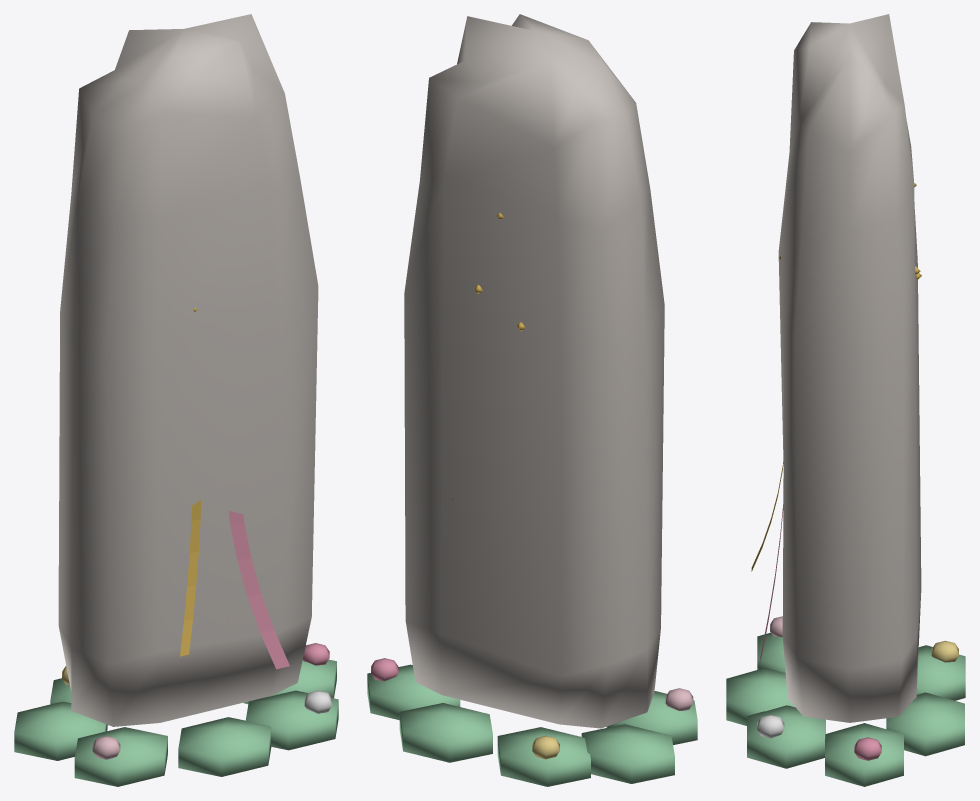
Rendered from rite_standing_stone_a.gltf.
3 views of the same model, side by side, from view 1: azimuth 30°, elevation 25°; view 2: azimuth 150°, elevation 25°; view 3: azimuth 270°, elevation 25° (orthographic).
Parts seen in each view (by area): view 1: rite_standing_stone_a; view 2: rite_standing_stone_a; view 3: rite_standing_stone_a.
Part boxes in pixels (box(x1,y1,x2,y2)): rite_standing_stone_a: box(14, 14, 338, 786); rite_standing_stone_a: box(367, 14, 697, 786); rite_standing_stone_a: box(726, 14, 965, 786).
Size of what is drawn, in the model's own units: 2.05 by 4.38 by 1.37.
